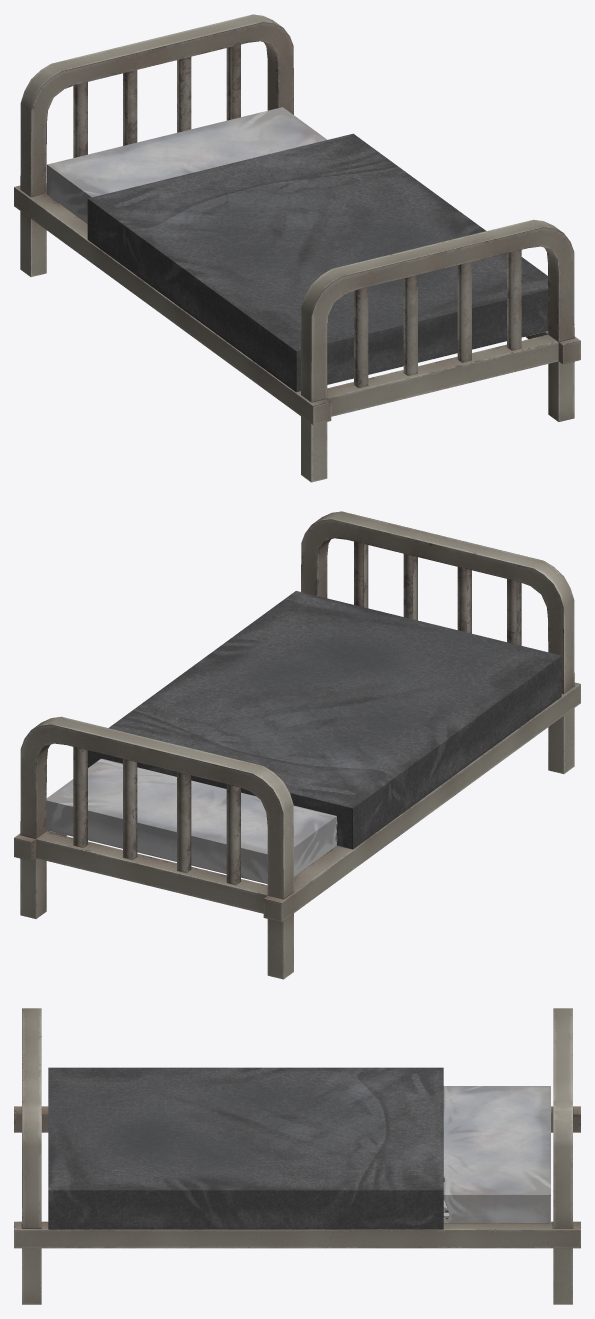
The model's file is prison bed.fbx.
3 views of the same model, one above another, from view 1: azimuth 30°, elevation 25°; view 2: azimuth 150°, elevation 25°; view 3: azimuth 270°, elevation 25° (orthographic). The views are drawn at different scales.
Parts seen in each view (by area): view 1: mattress_low, base_low; view 2: mattress_low, base_low; view 3: mattress_low, base_low.
Part boxes in pixels (x1=…): mattress_low: x1=47, y1=107, x2=548, y2=392; base_low: x1=14, y1=14, x2=580, y2=482; mattress_low: x1=46, y1=591, x2=561, y2=883; base_low: x1=14, y1=511, x2=580, y2=979; mattress_low: x1=48, y1=1067, x2=550, y2=1229; base_low: x1=14, y1=1008, x2=580, y2=1304.
Bounding box in the file's own units: 138 × 97.83 × 268.
1 material, 1 textured.
